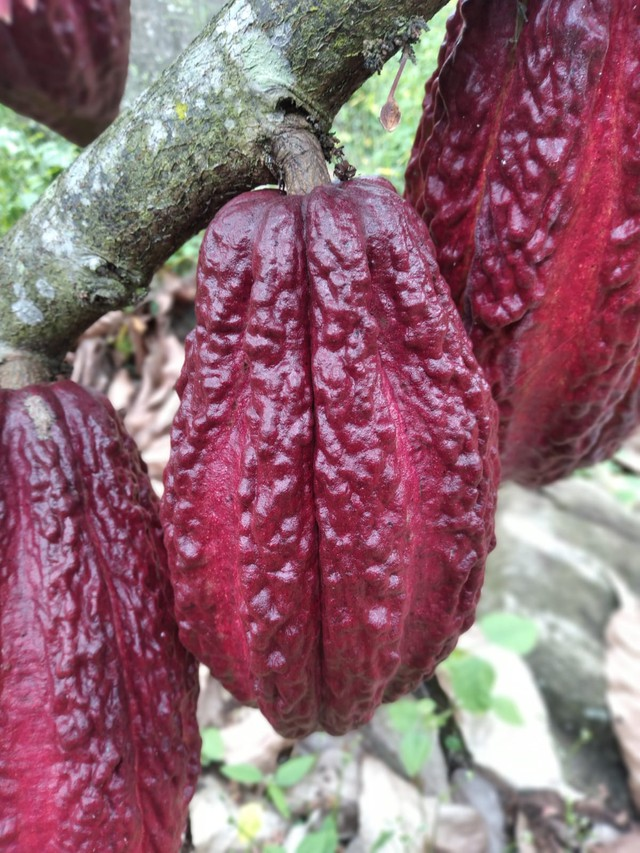Health: (129, 142, 523, 754)
